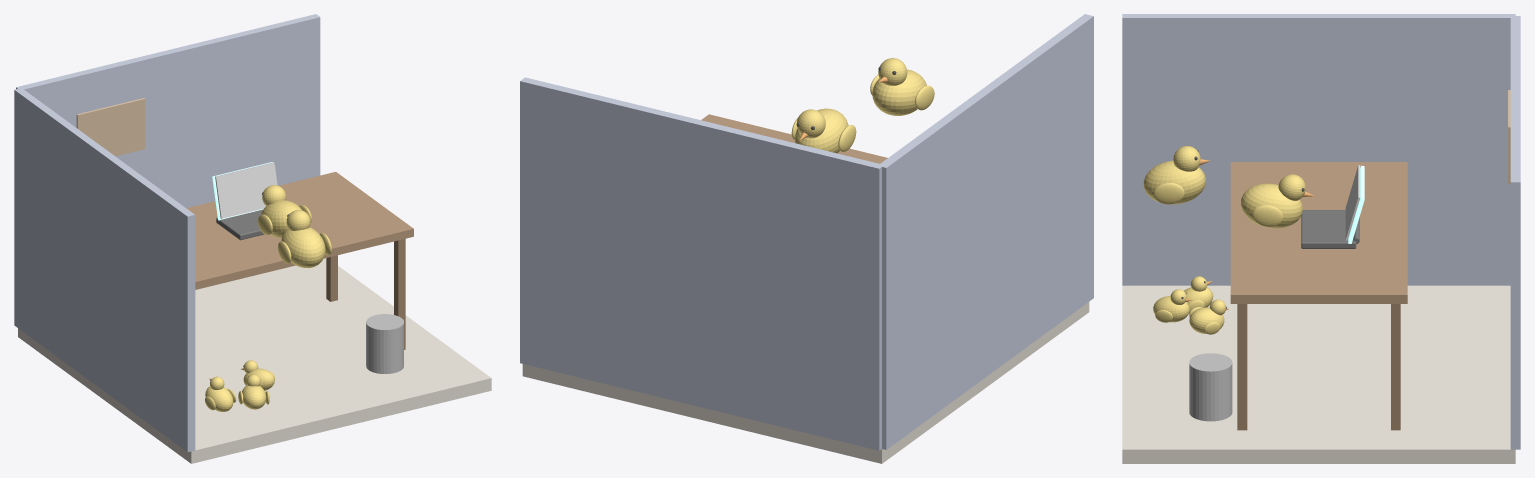
File: duck-scene.glb
The picture shows the model from 3 angles, left to right: view 1: azimuth 30°, elevation 25°; view 2: azimuth 150°, elevation 25°; view 3: azimuth 270°, elevation 25°; orthographic projection. The views are drawn at different scales.
Visible parts, largest first — view 1: wall_side, floor, wall_back, desk_top, corkboard, Cube, trash_can, duck_pile, duck_climb, duck_at_laptop, duck_return, desk_leg_FR (+2 smaller); view 2: wall_back, wall_side, floor, duck_at_laptop, duck_return, duck_climb, desk_top; view 3: wall_side, floor, desk_top, wall_back, trash_can, duck_at_laptop, duck_pile, duck_climb, laptop_base, desk_leg_FR, desk_leg_BR, duck_return (+2 smaller).
Boxes of the visible parts, left/top/right/bottom form: wall_side: left=14, top=88, right=195, bottom=452; floor: left=18, top=258, right=491, bottom=463; wall_back: left=16, top=14, right=320, bottom=208; desk_top: left=186, top=172, right=413, bottom=289; corkboard: left=76, top=98, right=145, bottom=156; Cube: left=215, top=162, right=277, bottom=218; trash_can: left=366, top=314, right=403, bottom=373; duck_pile: left=205, top=360, right=274, bottom=411; duck_climb: left=278, top=210, right=331, bottom=267; duck_at_laptop: left=258, top=185, right=311, bottom=238; duck_return: left=278, top=210, right=331, bottom=267; desk_leg_FR: left=394, top=239, right=405, bottom=349; wall_back: left=520, top=77, right=883, bottom=450; wall_side: left=878, top=14, right=1093, bottom=449; floor: left=522, top=302, right=1089, bottom=463; duck_at_laptop: left=791, top=108, right=856, bottom=153; duck_return: left=870, top=58, right=934, bottom=115; duck_climb: left=870, top=58, right=934, bottom=114; desk_top: left=701, top=114, right=887, bottom=163; wall_side: left=1122, top=14, right=1515, bottom=285; floor: left=1122, top=285, right=1515, bottom=463; desk_top: left=1230, top=162, right=1407, bottom=303; wall_back: left=1510, top=16, right=1520, bottom=449; trash_can: left=1189, top=353, right=1232, bottom=421; duck_at_laptop: left=1240, top=174, right=1313, bottom=228; duck_pile: left=1153, top=276, right=1228, bottom=334; duck_climb: left=1144, top=146, right=1205, bottom=204; laptop_base: left=1301, top=210, right=1359, bottom=248; desk_leg_FR: left=1237, top=304, right=1247, bottom=430; desk_leg_BR: left=1391, top=304, right=1400, bottom=430; duck_return: left=1143, top=146, right=1209, bottom=204.
Bounding box in the file's own units: 2.03 × 1.58 × 2.03.
